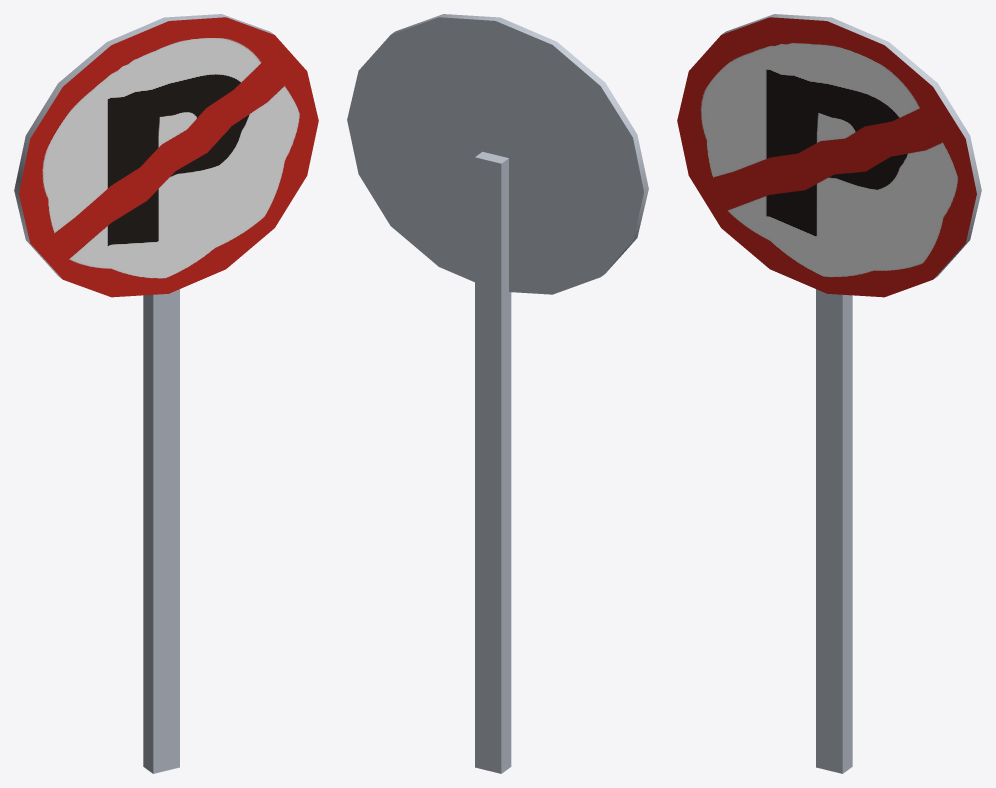
File: no-parking-sign.fbx
The picture shows the model from 3 angles, left to right: view 1: azimuth 30°, elevation 25°; view 2: azimuth 150°, elevation 25°; view 3: azimuth 330°, elevation 25°; orthographic projection.
Parts seen in each view (by area): view 1: 1.2 no-parking-sign; view 2: 1.2 no-parking-sign; view 3: 1.2 no-parking-sign.
Part boxes in pixels (left/top/right/bottom): 1.2 no-parking-sign: left=14, top=14, right=318, bottom=773; 1.2 no-parking-sign: left=347, top=14, right=648, bottom=773; 1.2 no-parking-sign: left=677, top=14, right=981, bottom=773.
Bounding box in the file's own units: 0.6267 × 1.5 × 0.0445.
